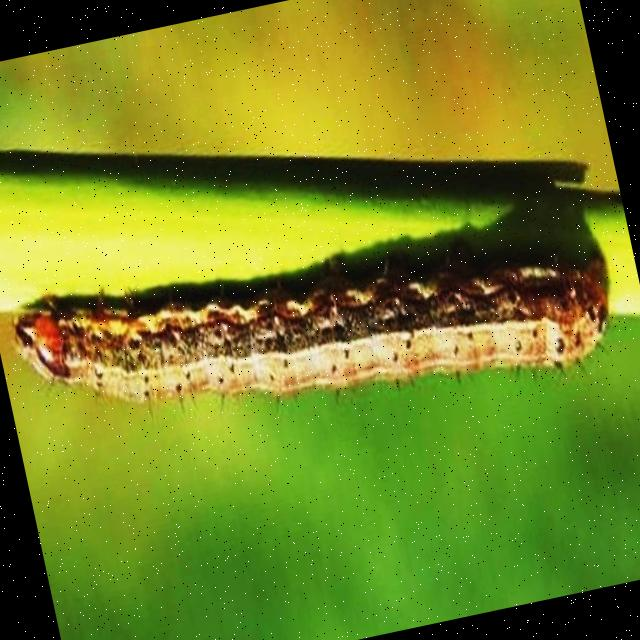worm: (6, 181, 630, 490)
